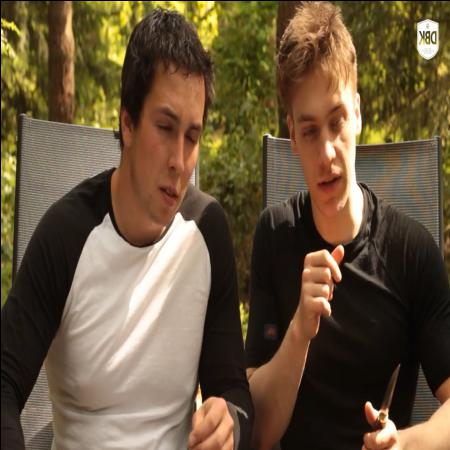long weapon: (358, 355, 402, 449)
